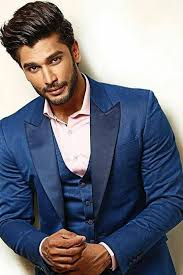Indian_Male: (8, 7, 94, 107)
